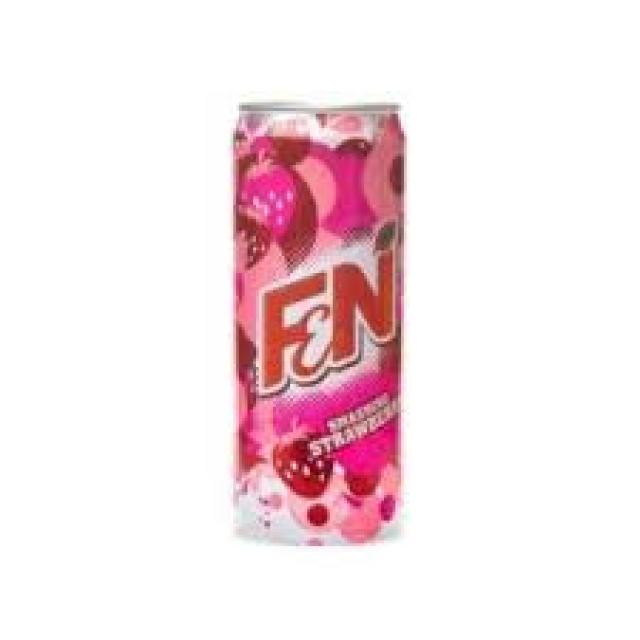Cans: (219, 88, 418, 555)
